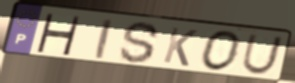H: (34, 12, 83, 57)
I: (94, 17, 114, 62)
K: (160, 26, 200, 69)
O: (199, 29, 244, 73)
S: (117, 20, 162, 65)
U: (239, 33, 286, 76)
